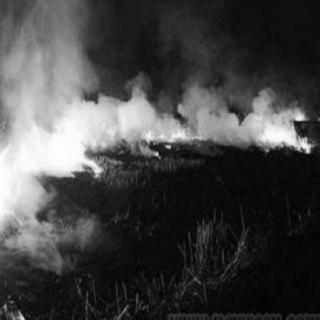Fire: (252, 101, 314, 151)
